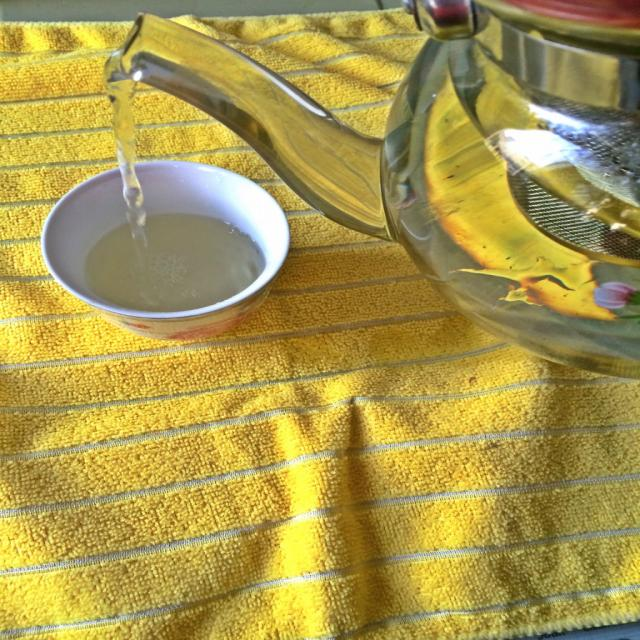Tea: (36, 157, 298, 329)
